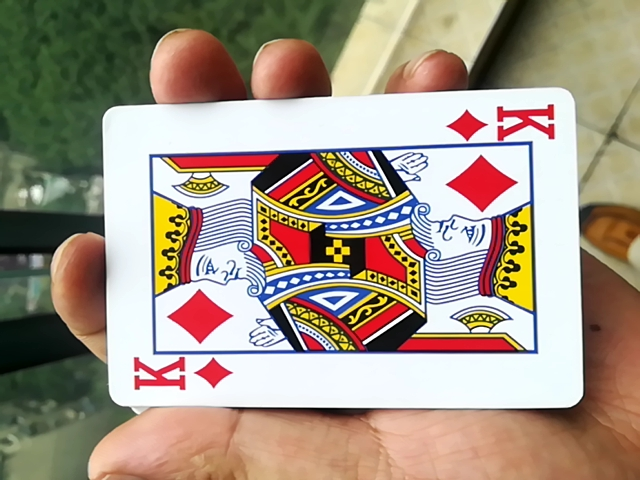fk k: (95, 97, 582, 415)
